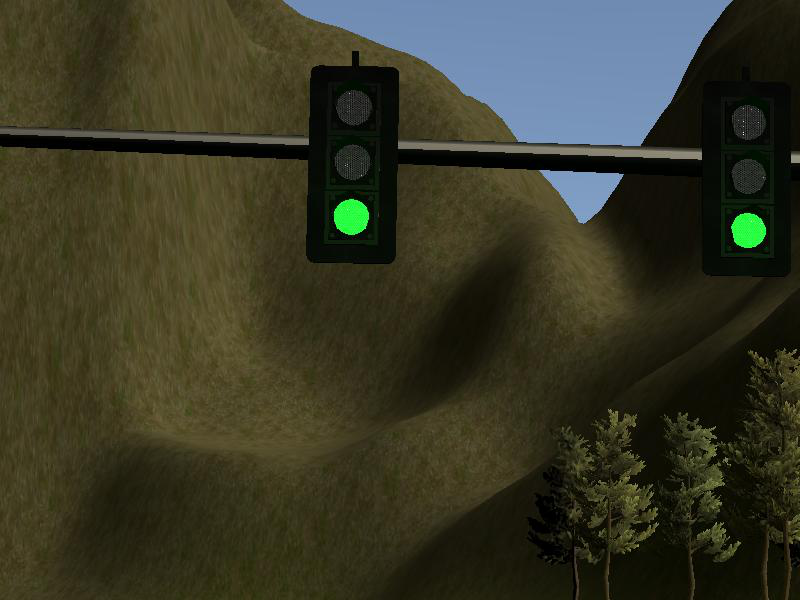green: (311, 65, 396, 266), (703, 81, 788, 272)
